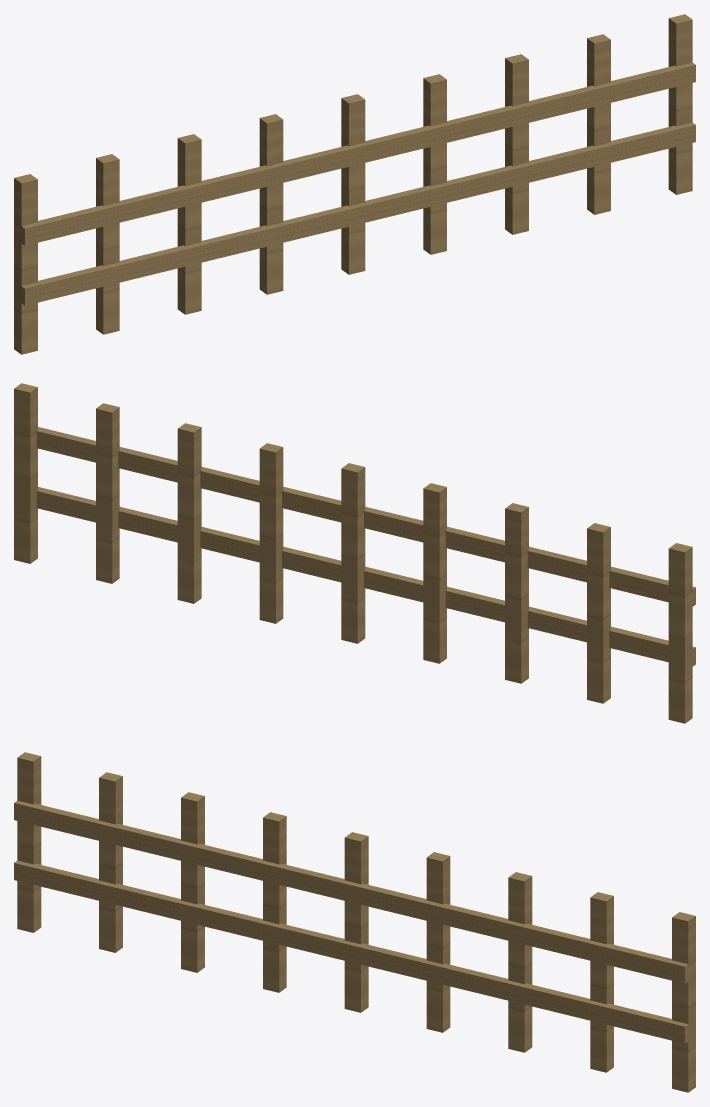
Rendered from cerca-blocos.glb.
The picture shows the model from 3 angles, top to bottom: view 1: azimuth 30°, elevation 25°; view 2: azimuth 150°, elevation 25°; view 3: azimuth 330°, elevation 25°; orthographic projection.
Parts seen in each view (by area): view 1: estaca (×9), travessa (×2); view 2: estaca (×9), travessa (×2); view 3: estaca (×9), travessa (×2).
Boxes of the visible parts, bbox=[...] form: estaca (×9): bbox=[14, 14, 692, 354]; travessa (×2): bbox=[21, 62, 695, 305]; estaca (×9): bbox=[14, 383, 692, 723]; travessa (×2): bbox=[36, 427, 695, 666]; estaca (×9): bbox=[17, 752, 695, 1092]; travessa (×2): bbox=[14, 800, 689, 1043].
Size of the model in its own units: 4.1 by 1 by 0.115.
1 material, 1 textured.
